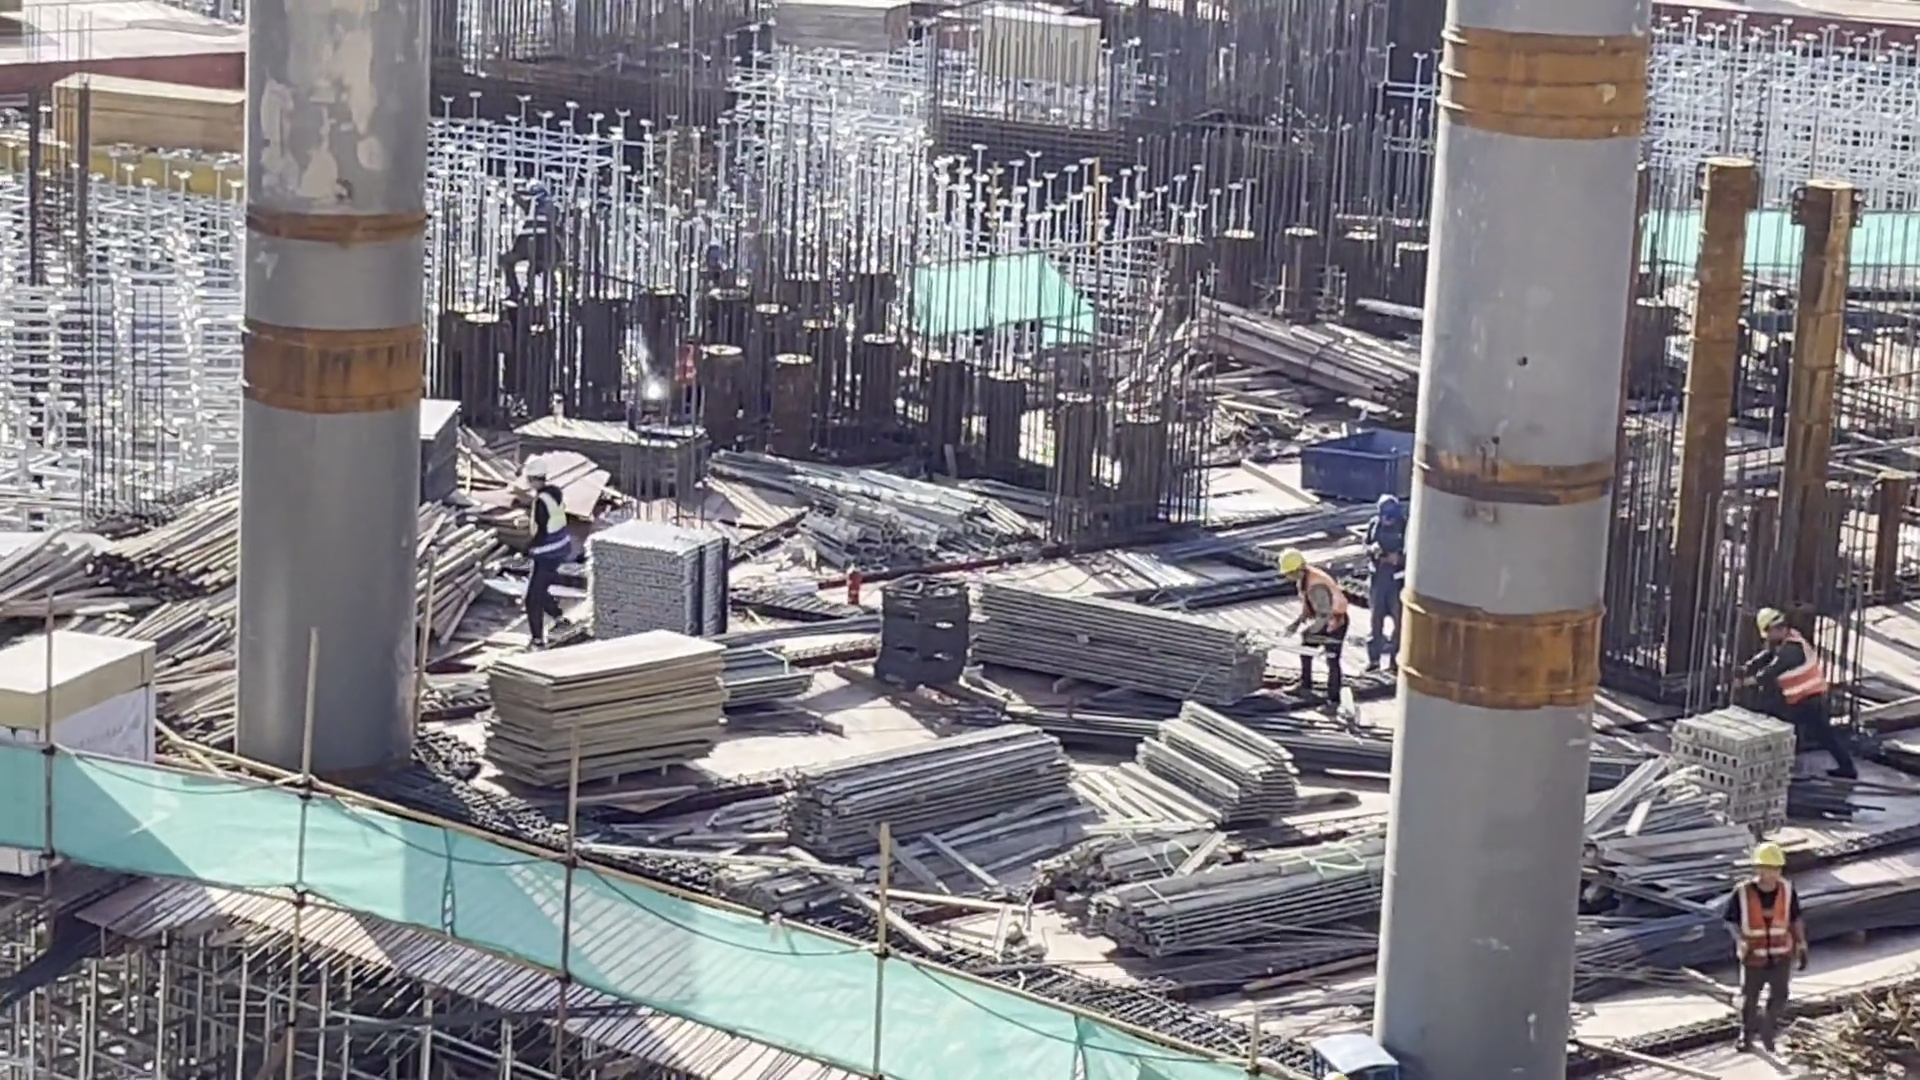helmet: (1754, 606, 1798, 669), (1756, 841, 1792, 892), (1376, 498, 1410, 541), (523, 459, 559, 492), (1285, 549, 1314, 573), (533, 176, 551, 207)
hopper: (1304, 416, 1411, 481)
person: (1721, 831, 1808, 1011), (1749, 600, 1836, 768), (523, 445, 591, 620), (1274, 548, 1346, 688), (1359, 488, 1418, 650), (506, 175, 558, 291)
rebar: (1568, 867, 1920, 995), (1029, 704, 1383, 779), (1158, 498, 1386, 565)
scaffold: (591, 519, 721, 639)
vest: (1743, 879, 1791, 969), (1366, 522, 1409, 601), (1293, 571, 1351, 624), (523, 504, 564, 567), (1781, 641, 1824, 692), (511, 219, 548, 252)
wood: (78, 489, 266, 601), (1234, 304, 1414, 399), (86, 71, 266, 159), (416, 494, 476, 617)
